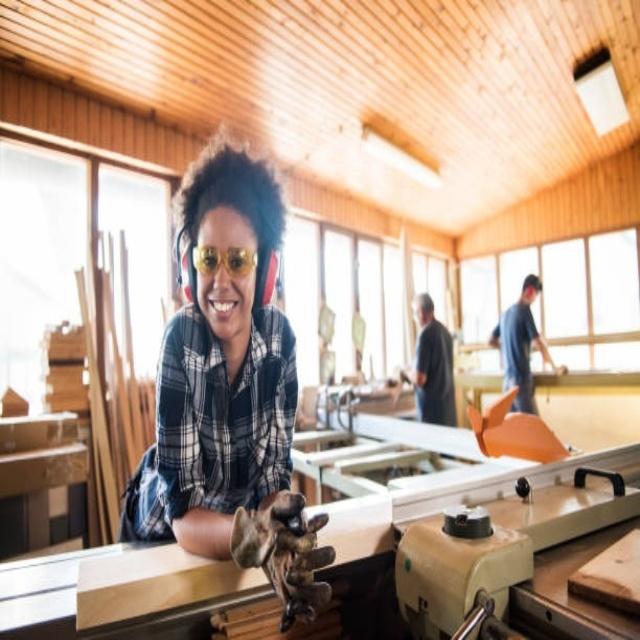Gafas: (190, 243, 259, 281)
Guantes: (229, 488, 325, 572)
Sin_mascara: (206, 293, 243, 333)
